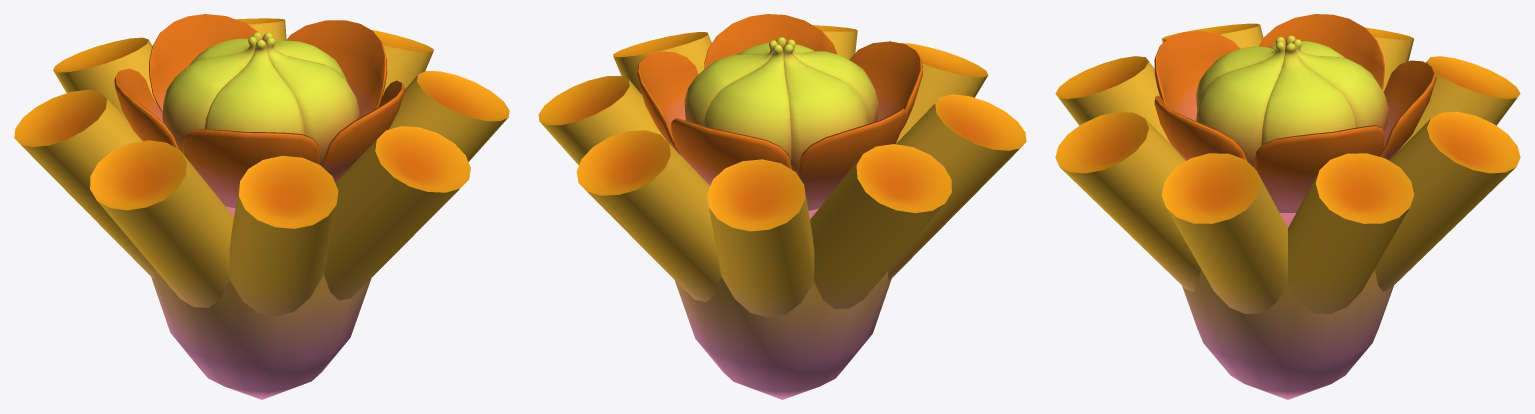
The model's file is flowerCactus.fbx.
3 renders of one model, left to right at view 1: azimuth 30°, elevation 25°; view 2: azimuth 150°, elevation 25°; view 3: azimuth 270°, elevation 25°, orthographic.
Parts seen in each view (by area): view 1: flowerCactus; view 2: flowerCactus; view 3: flowerCactus.
Boxes of the visible parts, left/top/right/bottom form: flowerCactus: left=14, top=14, right=509, bottom=399; flowerCactus: left=538, top=14, right=1026, bottom=399; flowerCactus: left=1055, top=14, right=1520, bottom=399.
Size of the model in its own units: 19.9 by 17.01 by 19.9.
1 material, 1 textured.
